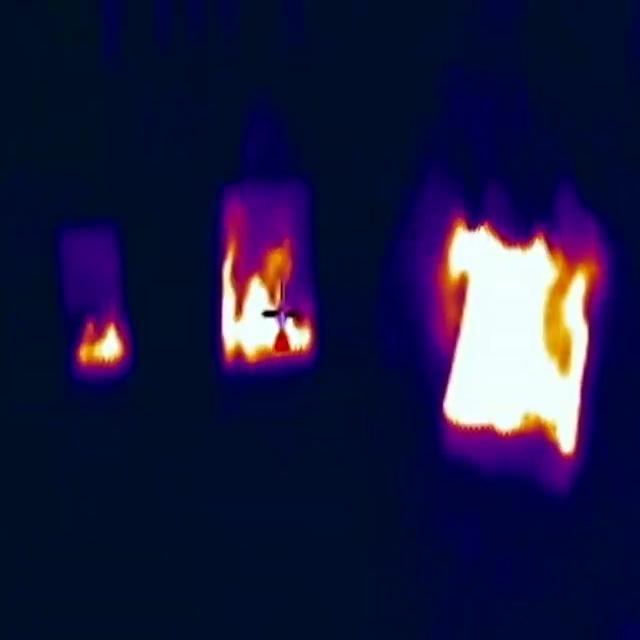fire: (443, 211, 601, 460), (221, 211, 314, 366), (78, 311, 130, 373)
